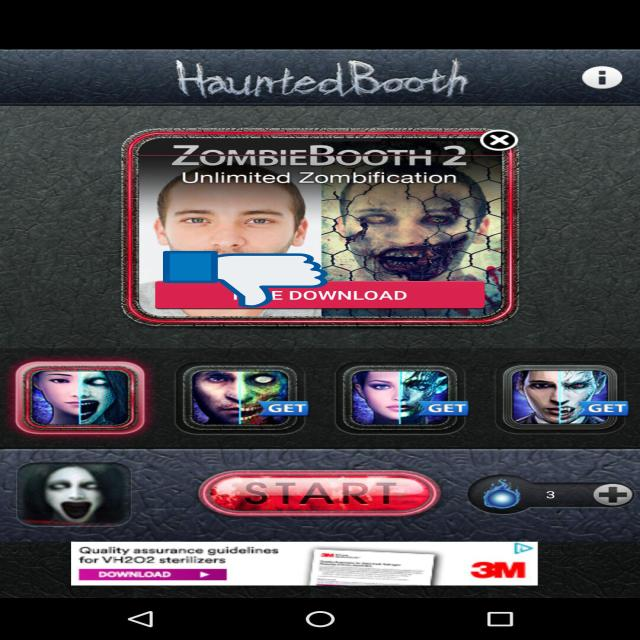obstruction: (163, 250, 328, 309)
